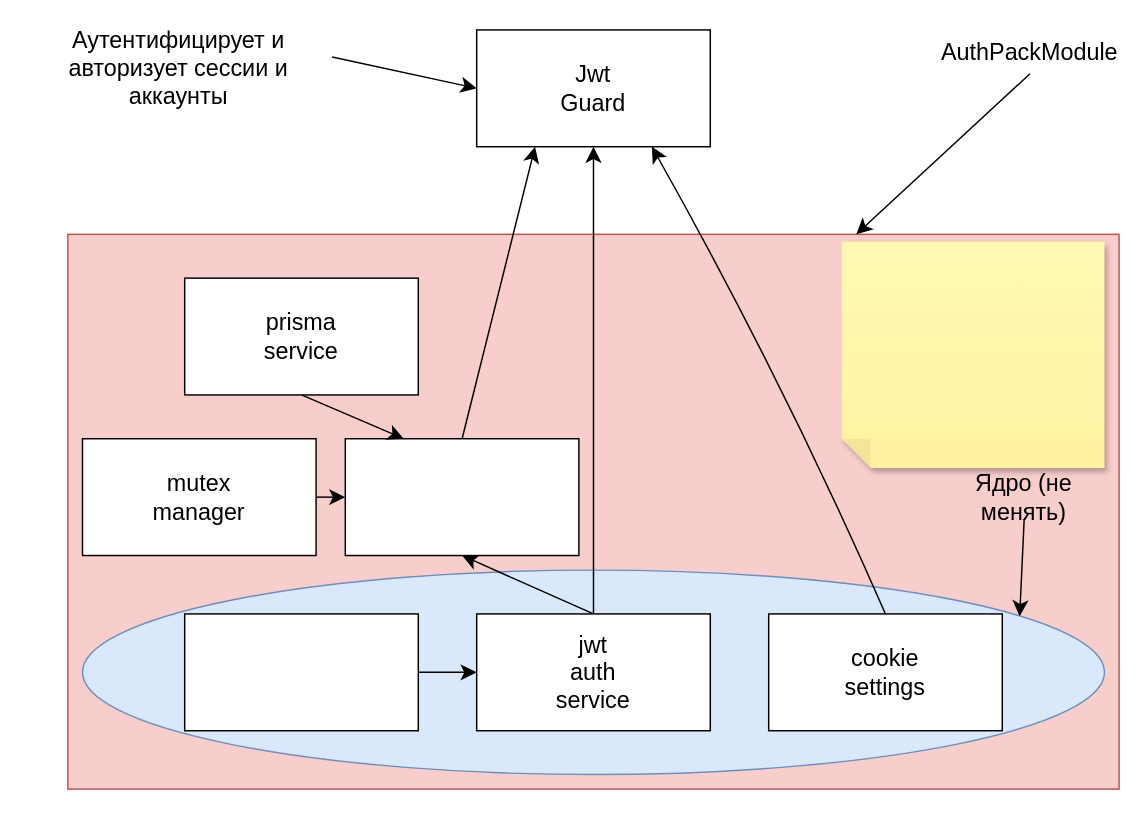
The diagram is 1145 pixels wide and 815 high, and some of its shapes have lost their labels. Here are the shapes that lost their labels. From the top down, the centre of each, then its label:
the point at 974,356: session service еще используется в своем модуле, откуда и экспортируется!
the point at 461,496: session service
the point at 300,671: jwt auth settings
